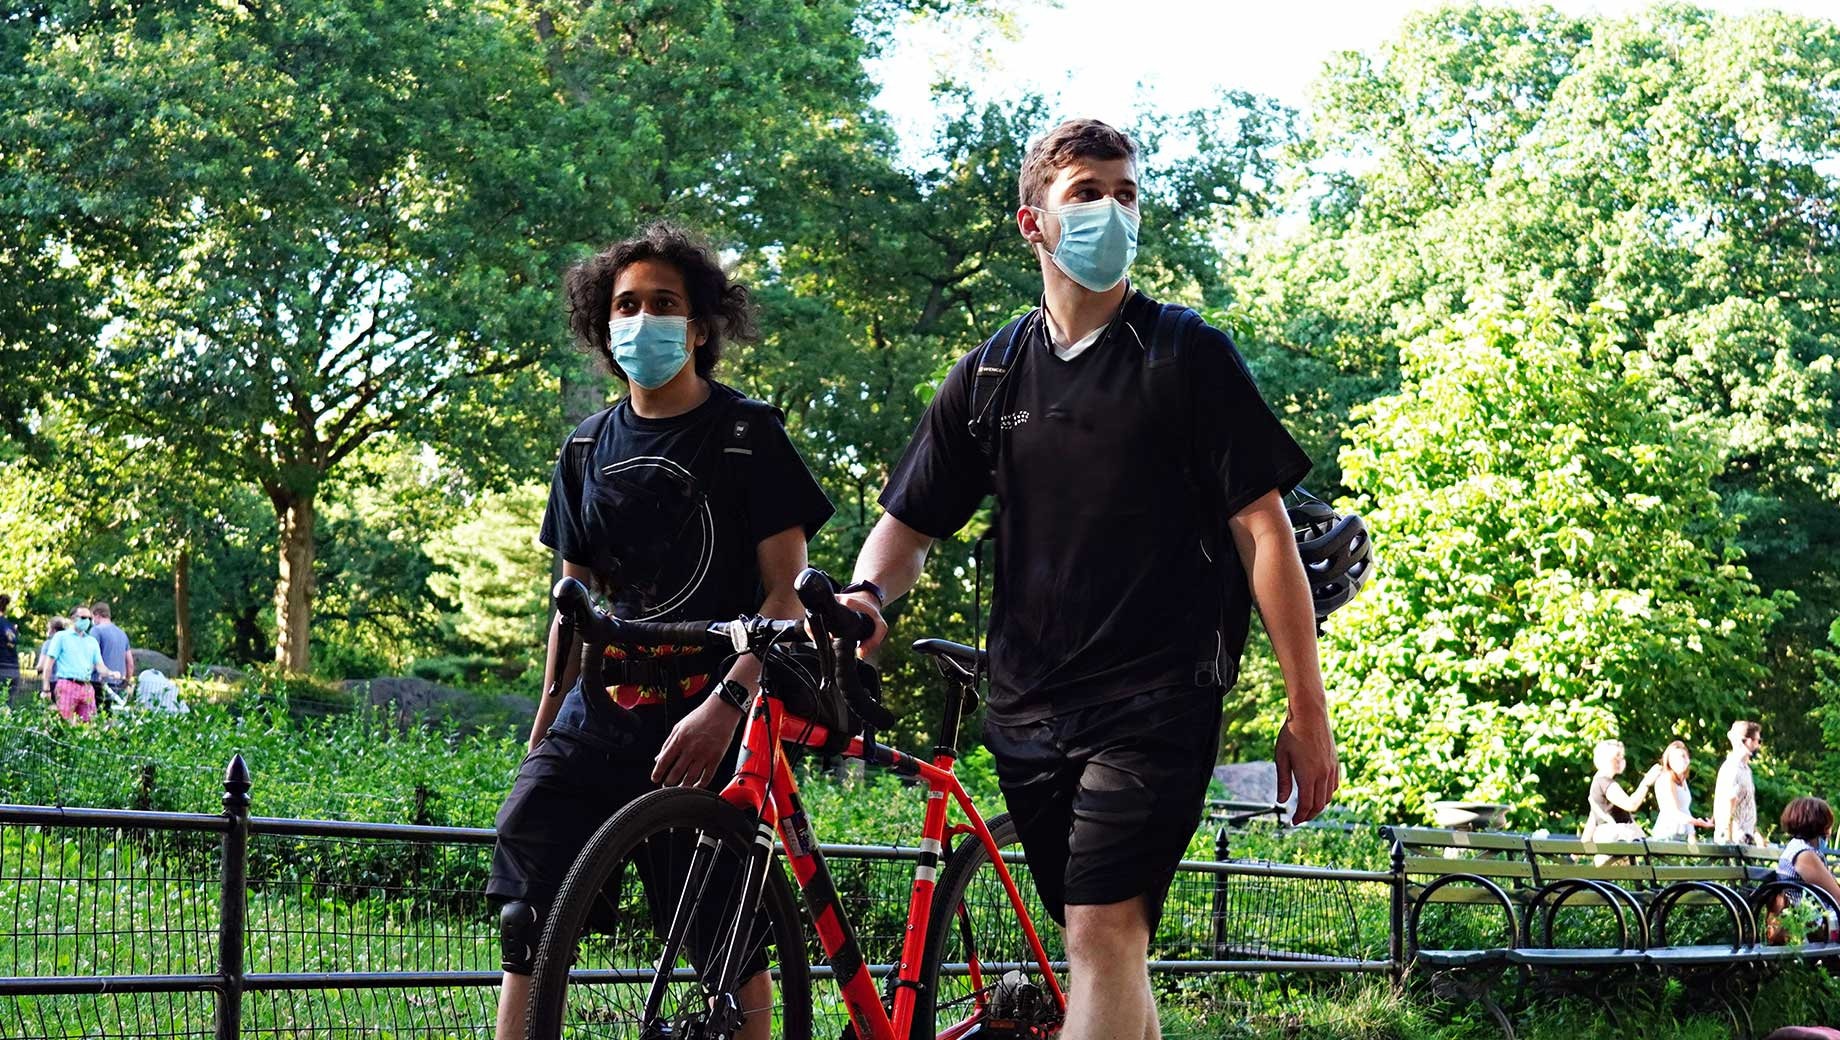with_mask: (1051, 150, 1144, 291), (610, 281, 687, 380)
